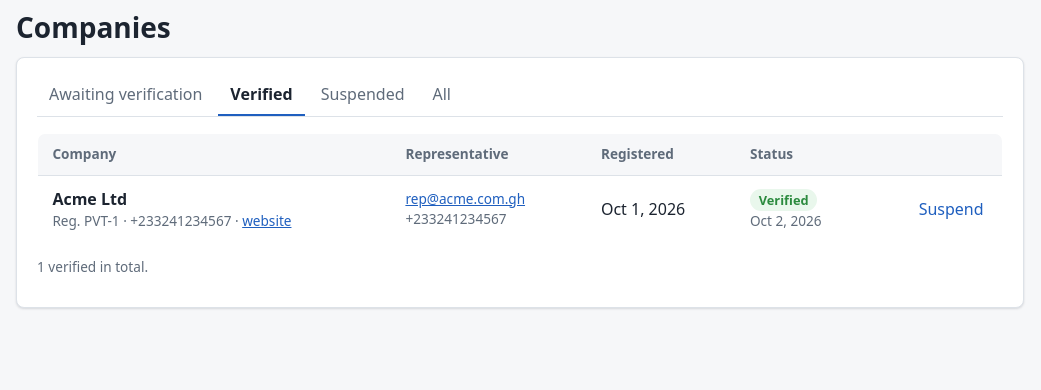
Test case: CompaniesPage (US-04, US-12) › US-12: suspends with a reason, and reinstates a suspended company
Click the button "Suspend" at (951,209), box [915,193,988,225]
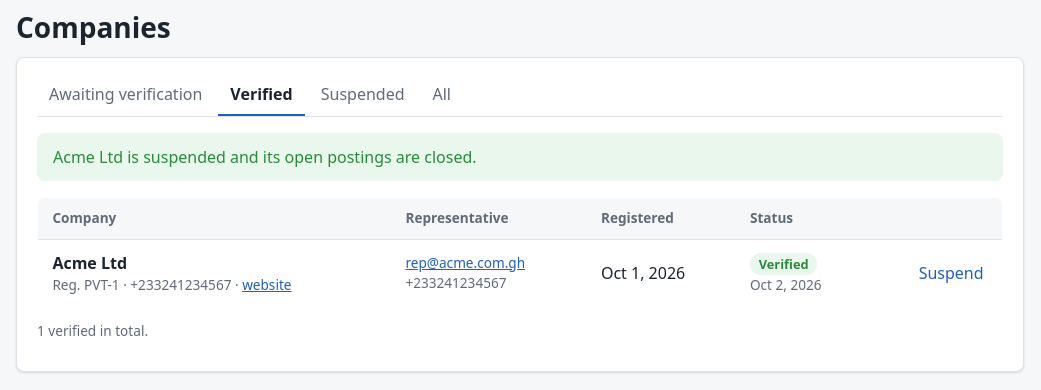
Check: the text "Acme Ltd is suspended and its open postings are closed." is shown, box [37,133,1003,181]
